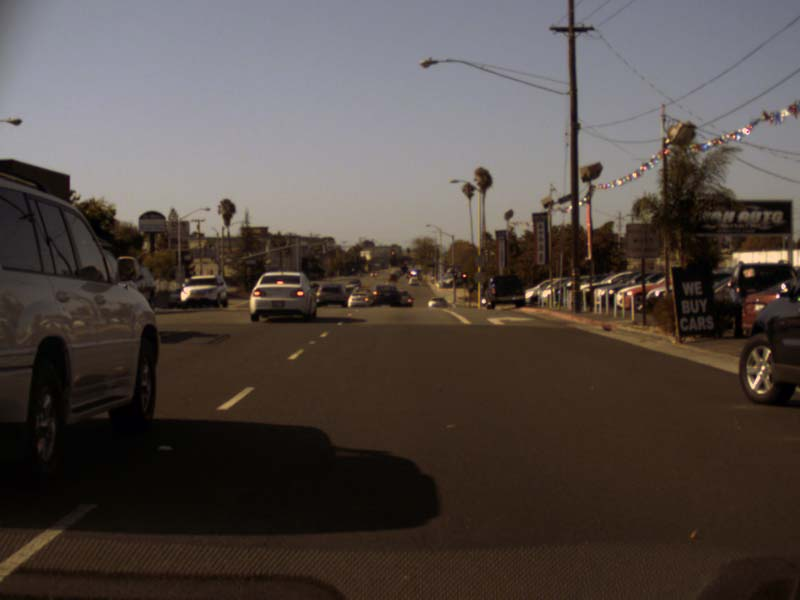Red: (390, 250, 394, 255)
